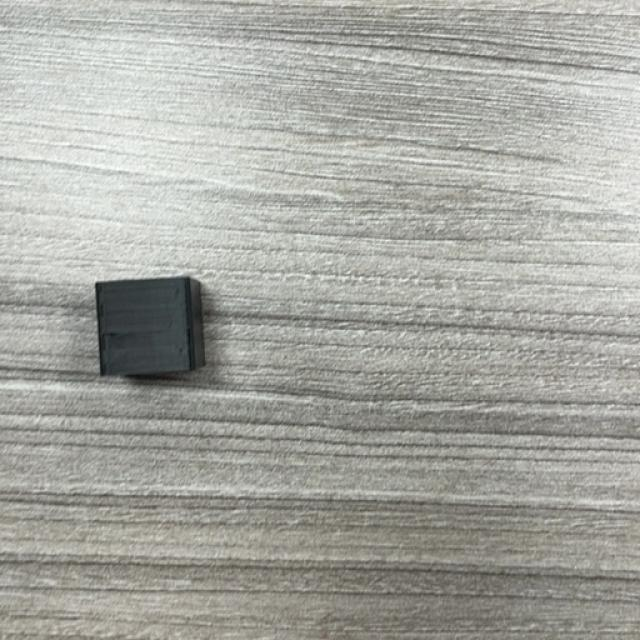Negro: (95, 276, 205, 379)
